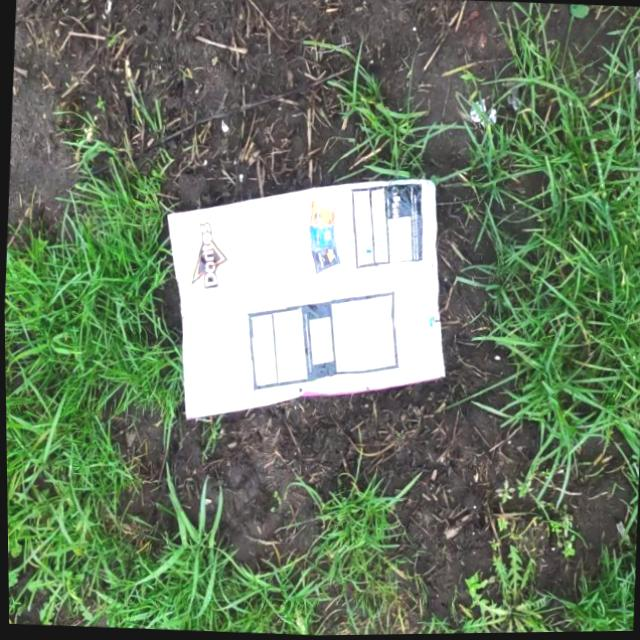Plastic: (154, 166, 457, 436)
